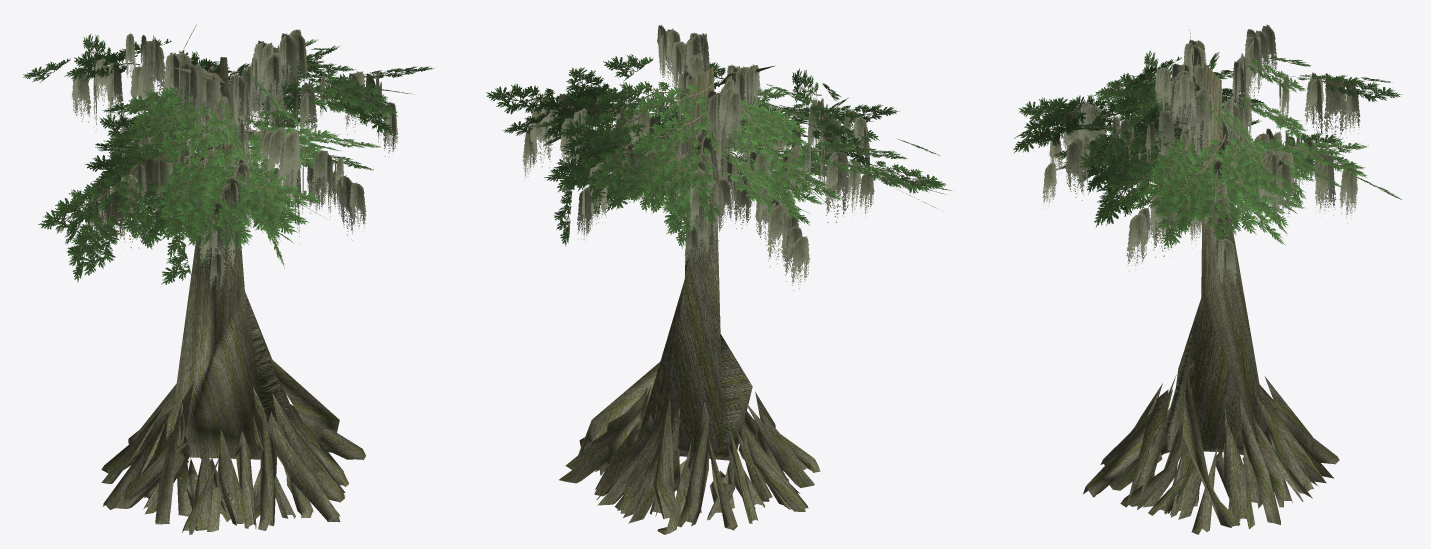
File: bald-cypress.lod0.glb
The picture shows the model from 3 angles, left to right: view 1: azimuth 30°, elevation 25°; view 2: azimuth 150°, elevation 25°; view 3: azimuth 270°, elevation 25°; orthographic projection. The views are drawn at different scales.
Visible parts, largest first — view 1: bald_cypress_03:Mesh_bald_cypress_03:Leaves_4_0, bald_cypress_03:Mesh_bald_cypress_03:Fronds_3_0; view 2: bald_cypress_03:Mesh_bald_cypress_03:Leaves_4_0, bald_cypress_03:Mesh_bald_cypress_03:Fronds_3_0; view 3: bald_cypress_03:Mesh_bald_cypress_03:Leaves_4_0, bald_cypress_03:Mesh_bald_cypress_03:Fronds_3_0.
Part boxes in pixels (x1,y1,x2,y2): bald_cypress_03:Mesh_bald_cypress_03:Leaves_4_0: [23, 25, 435, 293]; bald_cypress_03:Mesh_bald_cypress_03:Fronds_3_0: [101, 57, 365, 534]; bald_cypress_03:Mesh_bald_cypress_03:Leaves_4_0: [486, 25, 951, 290]; bald_cypress_03:Mesh_bald_cypress_03:Fronds_3_0: [559, 65, 820, 534]; bald_cypress_03:Mesh_bald_cypress_03:Leaves_4_0: [1013, 24, 1402, 292]; bald_cypress_03:Mesh_bald_cypress_03:Fronds_3_0: [1083, 30, 1339, 534].
Bounding box in the file's own units: 18.62 × 17.56 × 15.71.
2 materials, 2 textured.
